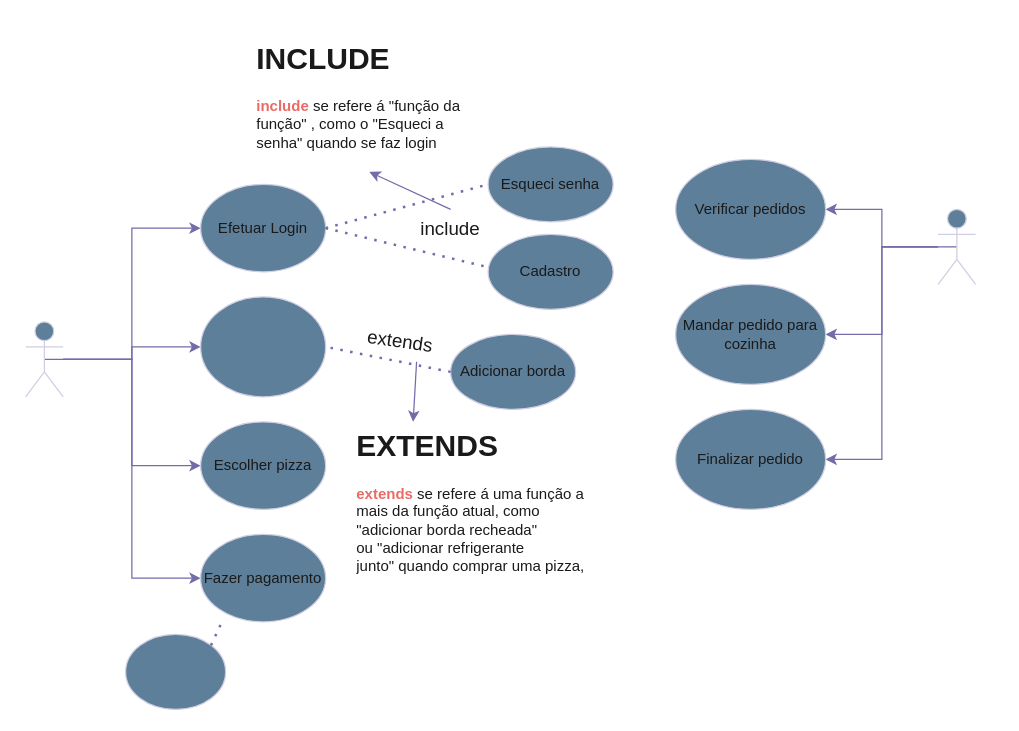
Some shapes in this 1019 by 731 pixel diagram are drawn without their labels. Here are the shapes that lost their labels. From the top down, the centre of each, then its label:
(956,246): FUncionário
(43,359): Cliente
(262,346): Selecionar sabor de pizza
(175,671): Fazer PIX
